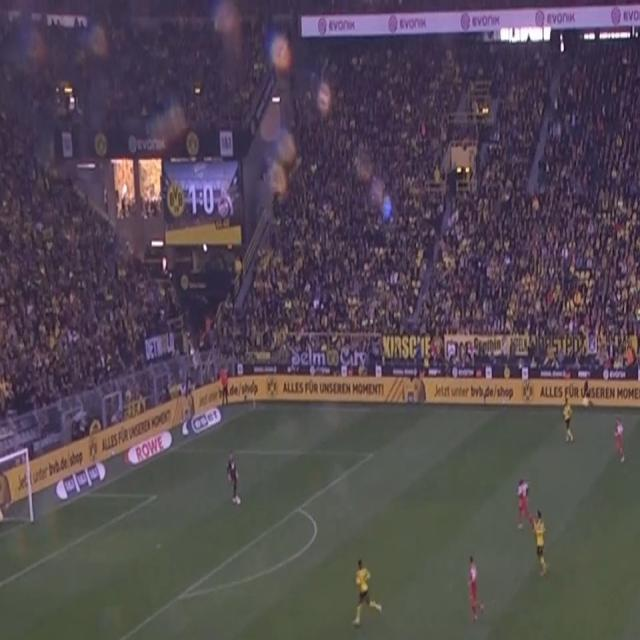ball: (234, 494, 242, 507)
